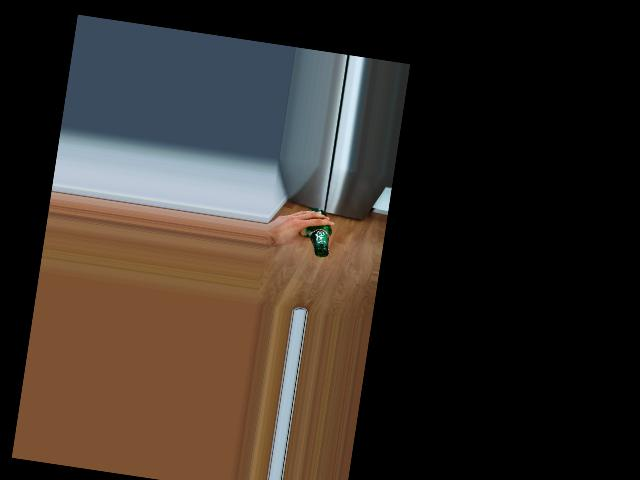beer: (301, 207, 334, 258)
